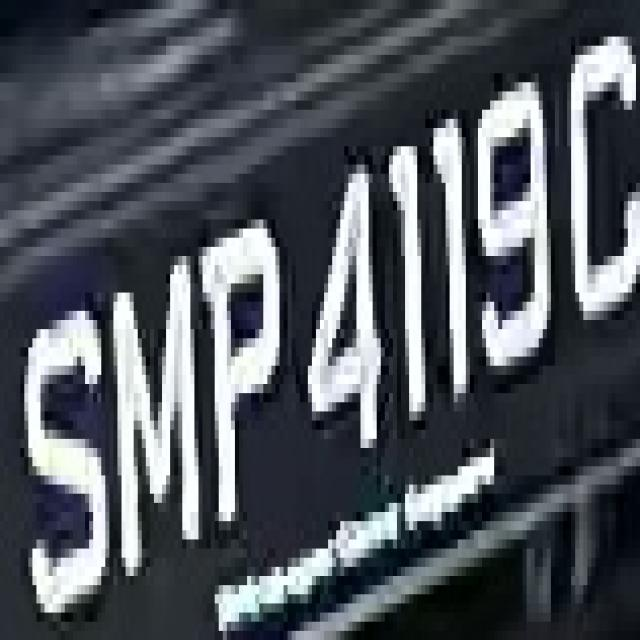1: (417, 64, 482, 448), (377, 73, 438, 439)
4: (292, 119, 381, 475)
9: (462, 37, 555, 393)
C: (555, 9, 640, 357)
M: (106, 229, 202, 585)
P: (198, 192, 284, 558)
S: (16, 265, 106, 631)
